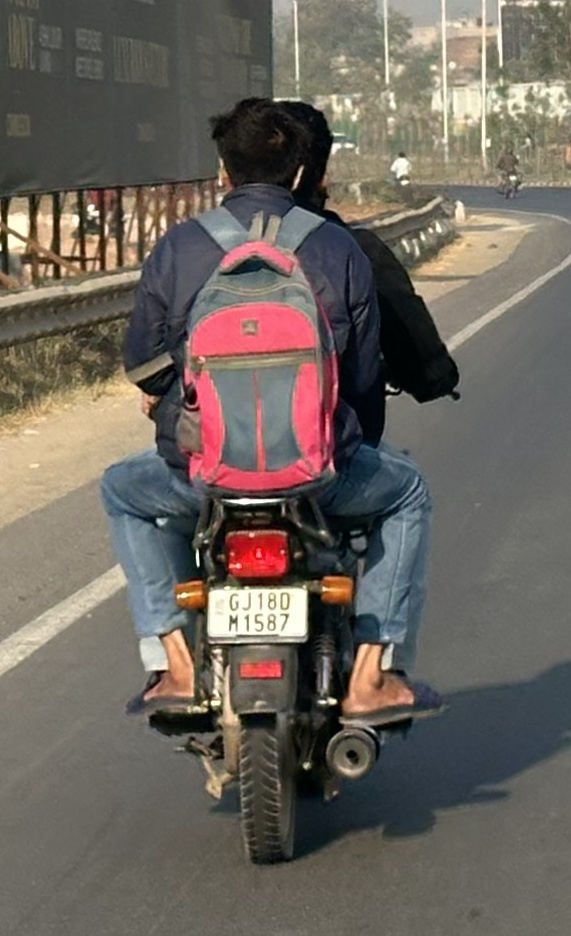BikeWithRider: (87, 85, 472, 876), (487, 138, 530, 203)
NoHelmet: (198, 88, 319, 210), (255, 93, 348, 214)
